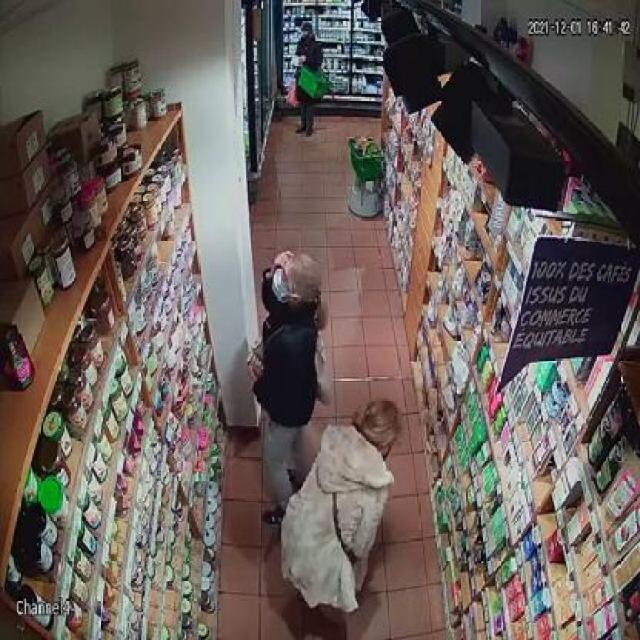Shoplifting: (266, 375, 428, 640)
